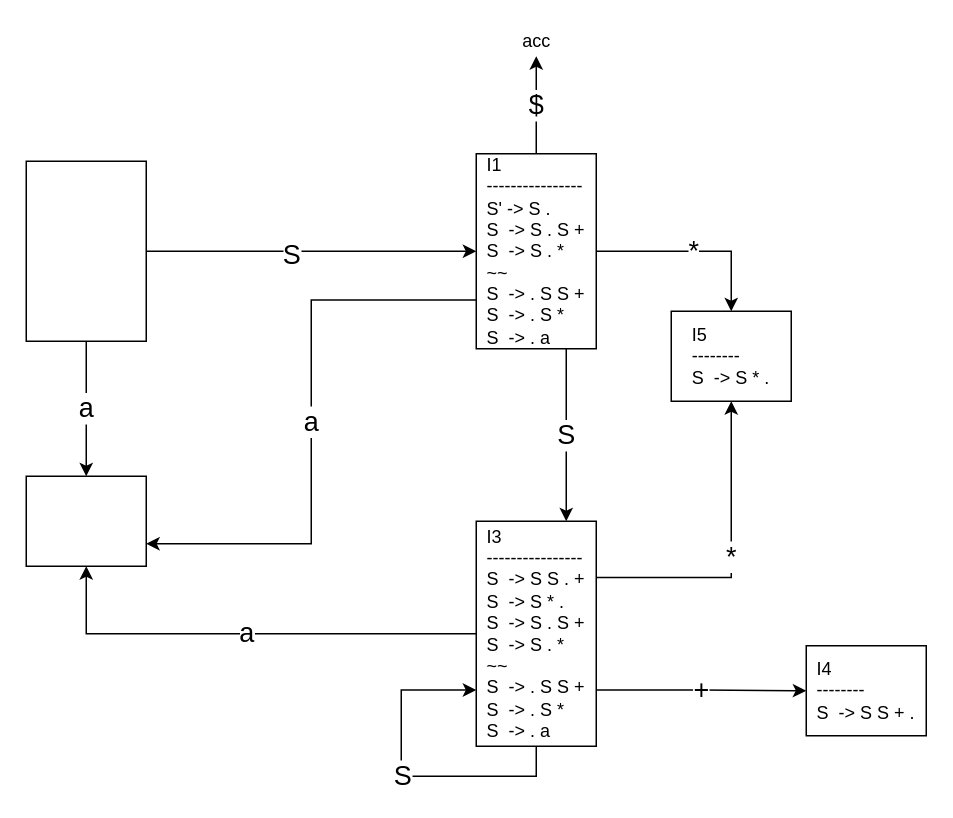
Image size: 953x818. Some labels were removed from this diagram. Each missing label, with the centre of its shape:
"I0 --------------- S' -> . S ~~ S -> . S S + S -> . S * S -> . a" belongs at [85,250].
"I2 -------- S -> a ." belongs at [85,520].
